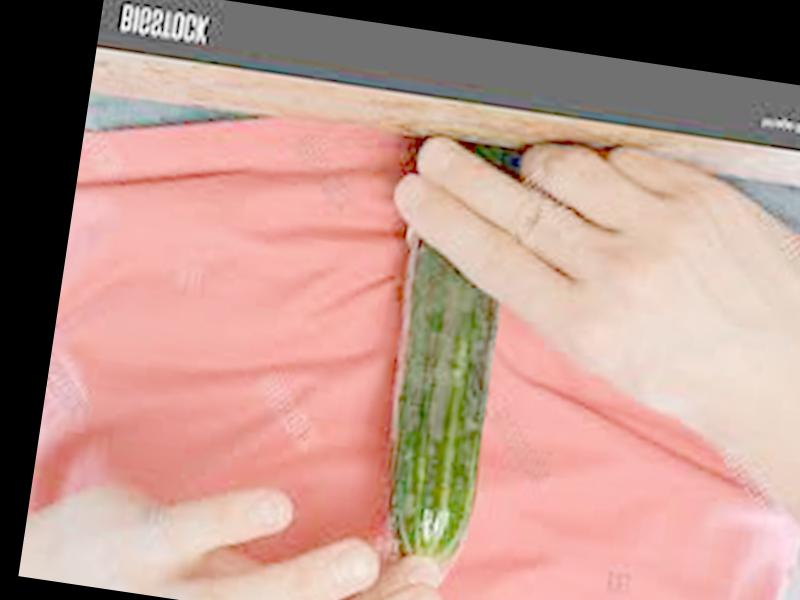Cucumber: (366, 234, 513, 565)
